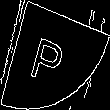P_N: (34, 25, 76, 85)
